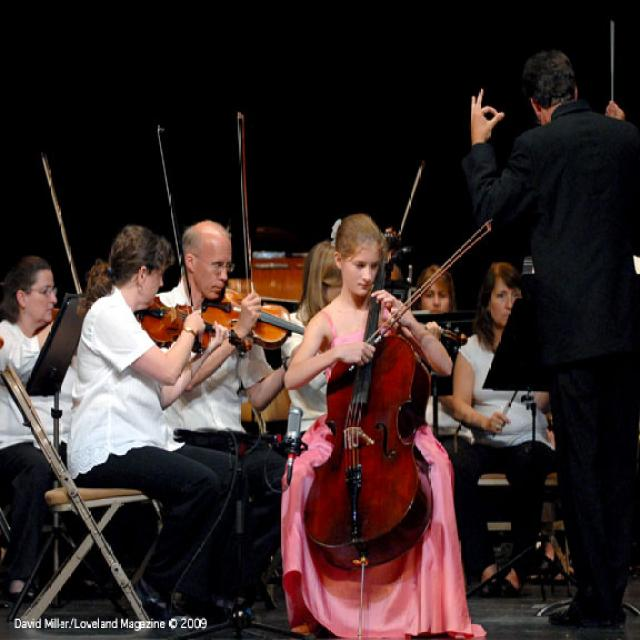cello: (301, 228, 434, 566)
violin: (138, 296, 254, 358), (204, 287, 302, 348)
